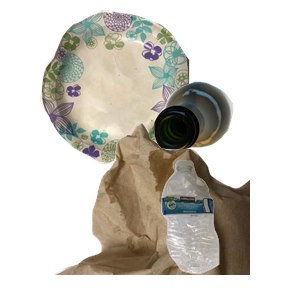glass: (151, 79, 300, 221)
paper: (37, 10, 219, 167)
plastic: (159, 158, 300, 300)
trash: (52, 120, 292, 300)
